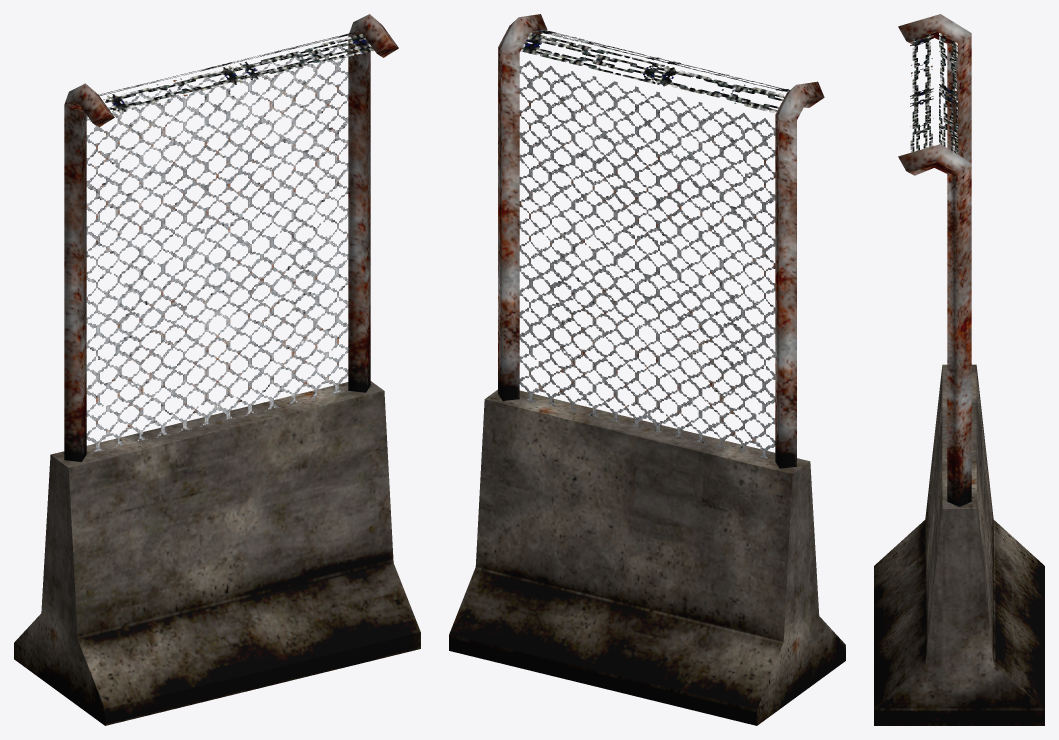
File: ConcreteBarrierWithFence.fbx
3 renders of one model, left to right at view 1: azimuth 30°, elevation 25°; view 2: azimuth 150°, elevation 25°; view 3: azimuth 270°, elevation 25°, orthographic. The views are drawn at different scales.
Visible parts, largest first — view 1: ConcreteBarrierWithFence; view 2: ConcreteBarrierWithFence; view 3: ConcreteBarrierWithFence.
Boxes of the visible parts, x1,y1,x2,y2 form: ConcreteBarrierWithFence: [14, 14, 420, 725]; ConcreteBarrierWithFence: [449, 14, 845, 725]; ConcreteBarrierWithFence: [874, 14, 1044, 725].
Bounding box in the file's own units: 200 × 371 × 100.
